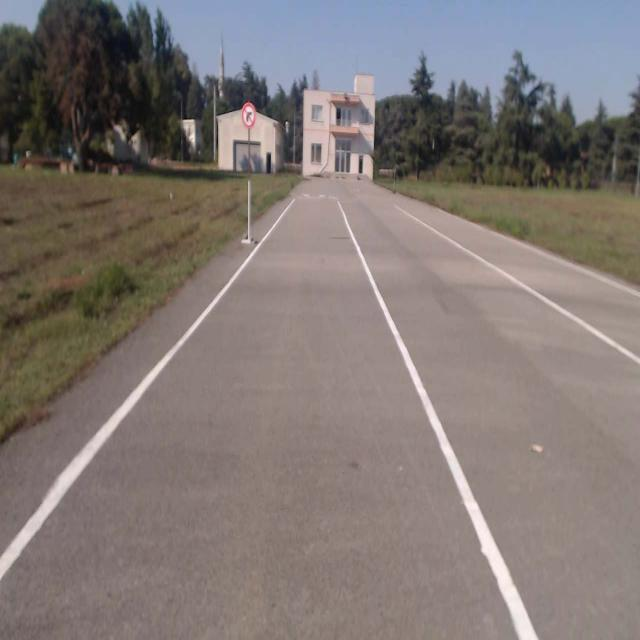sagadonulmez: (241, 102, 255, 127)
